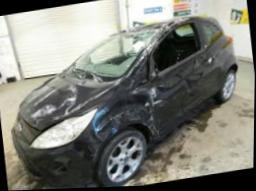Bonnet: (17, 74, 119, 137)
Door: (149, 50, 211, 138)
Fender: (74, 57, 166, 167)
Windshield: (66, 33, 160, 80)
